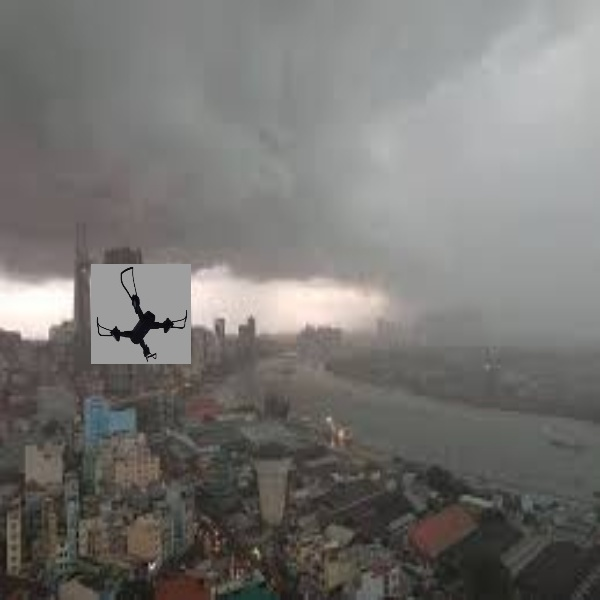drone: (92, 262, 192, 363)
